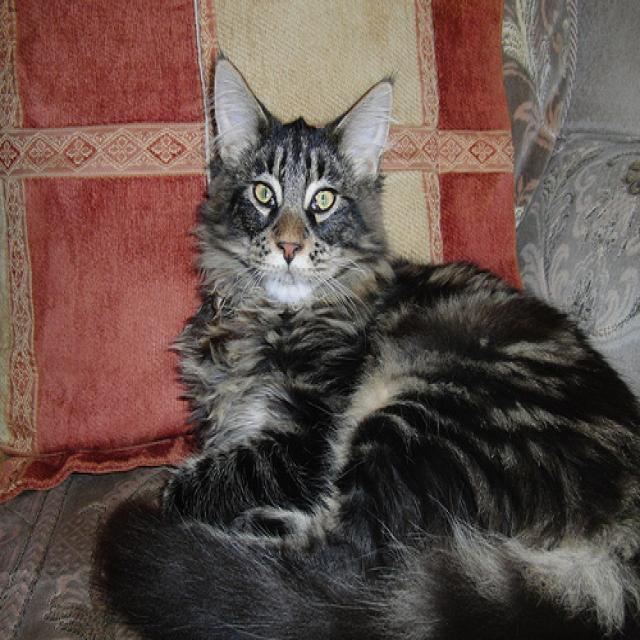Maine_Coon: (212, 57, 391, 301)
